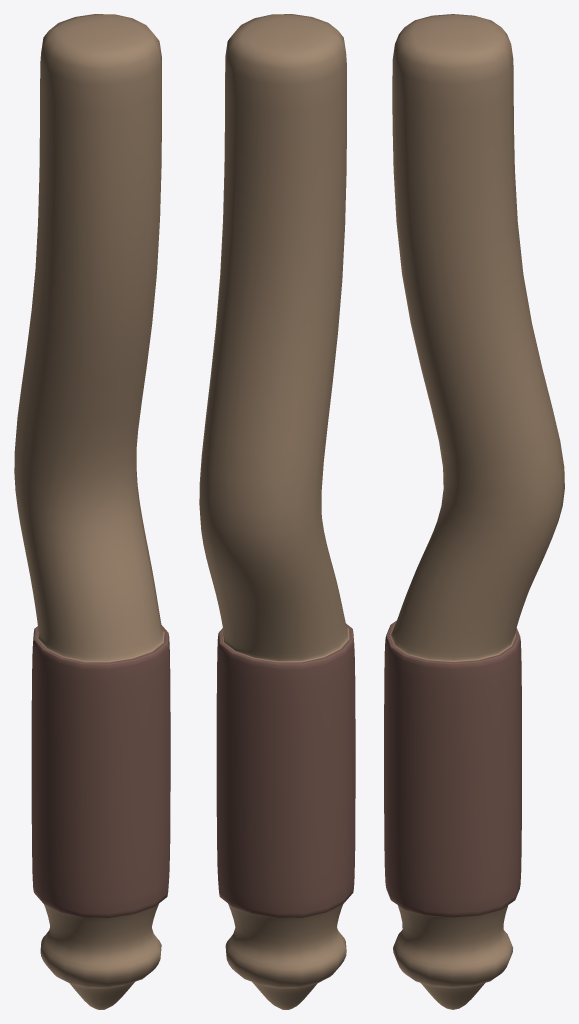
File: Handle_Mace.fbx
3 renders of one model, left to right at view 1: azimuth 30°, elevation 25°; view 2: azimuth 150°, elevation 25°; view 3: azimuth 270°, elevation 25°, orthographic.
Parts seen in each view (by area): view 1: Handle_Mace; view 2: Handle_Mace; view 3: Handle_Mace.
Part boxes in pixels (<box>): Handle_Mace: <box>14,14,170,1009</box>; Handle_Mace: <box>199,14,355,1009</box>; Handle_Mace: <box>384,14,564,1009</box>.
Bounding box in the file's own units: 89.27 × 698 × 117.
